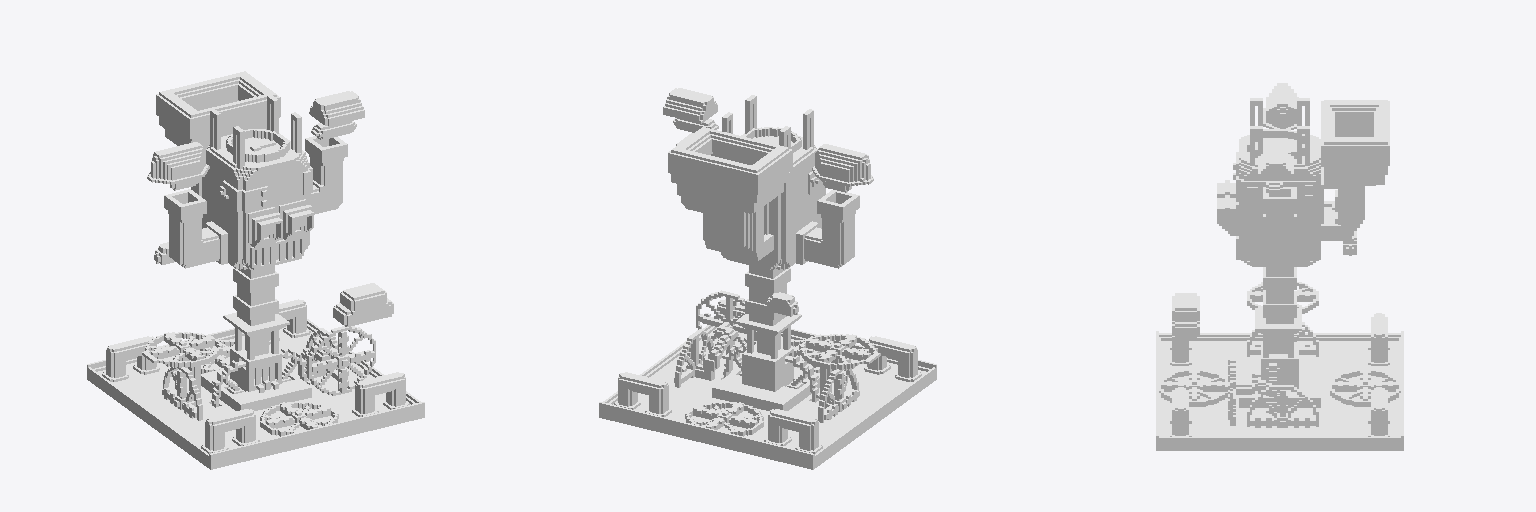
File: Maquina.obj
3 renders of one model, left to right at view 1: azimuth 30°, elevation 25°; view 2: azimuth 150°, elevation 25°; view 3: azimuth 270°, elevation 25°, orthographic.
Visible parts, largest first — view 1: object 1; view 2: object 1; view 3: object 1.
Boxes of the visible parts, x1=… form: object 1: x1=87, y1=71, x2=424, y2=469; object 1: x1=599, y1=88, x2=936, y2=469; object 1: x1=1156, y1=83, x2=1403, y2=450.
Size of the model in its own units: 9 by 11.4 by 9.